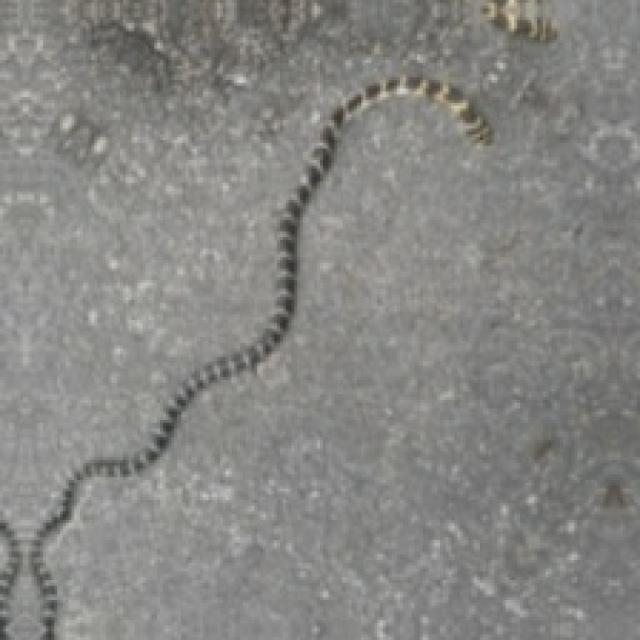king cobra: (0, 77, 491, 637), (0, 0, 437, 534)
